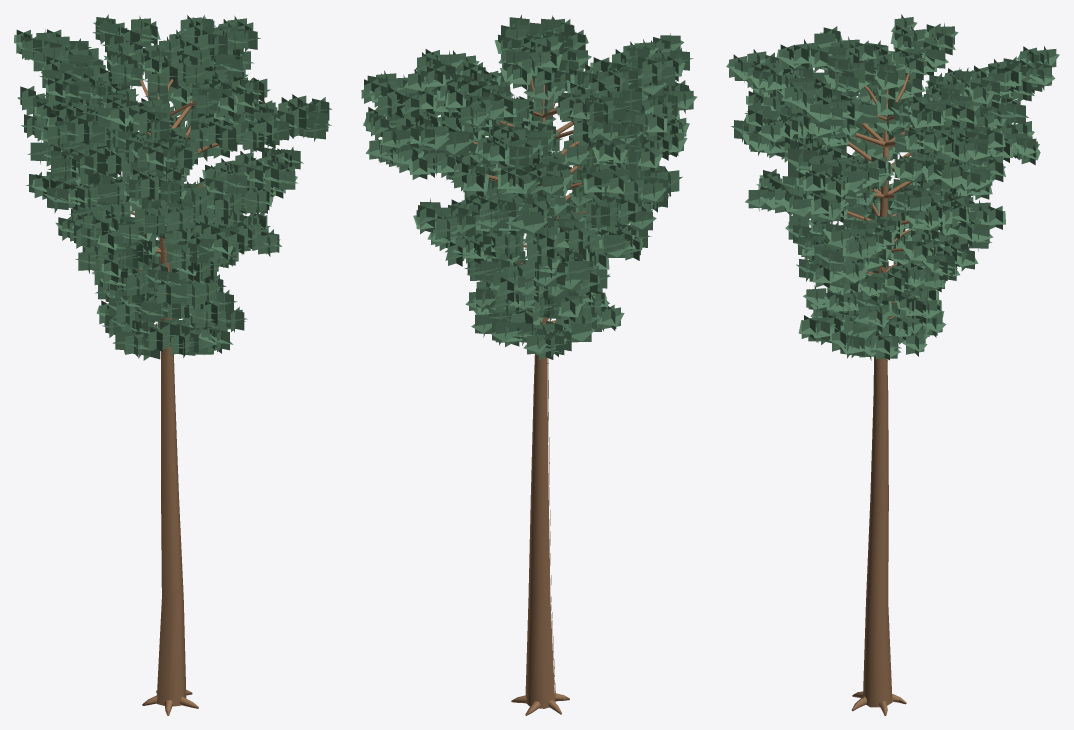
Rendered from pin_5_jeu.glb.
3 views of the same model, side by side, from view 1: azimuth 30°, elevation 25°; view 2: azimuth 150°, elevation 25°; view 3: azimuth 270°, elevation 25° (orthographic). The views are drawn at different scales.
Visible parts, largest first — view 1: Pin_T5_Leger; view 2: Pin_T5_Leger; view 3: Pin_T5_Leger.
Part boxes in pixels (<box>): Pin_T5_Leger: <box>14,14,331,715</box>; Pin_T5_Leger: <box>361,15,697,715</box>; Pin_T5_Leger: <box>726,14,1059,715</box>.
Size of the model in its own units: 9.8 by 21.93 by 10.4.
